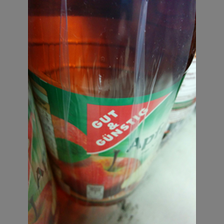juice: (29, 1, 194, 203)
